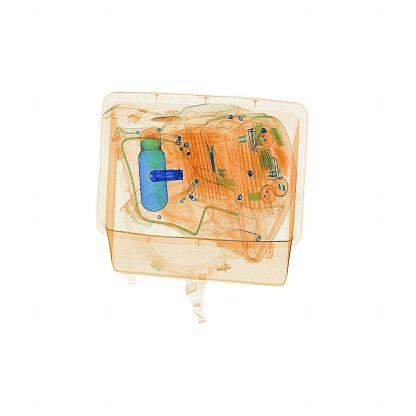gun: (196, 122, 227, 176)
